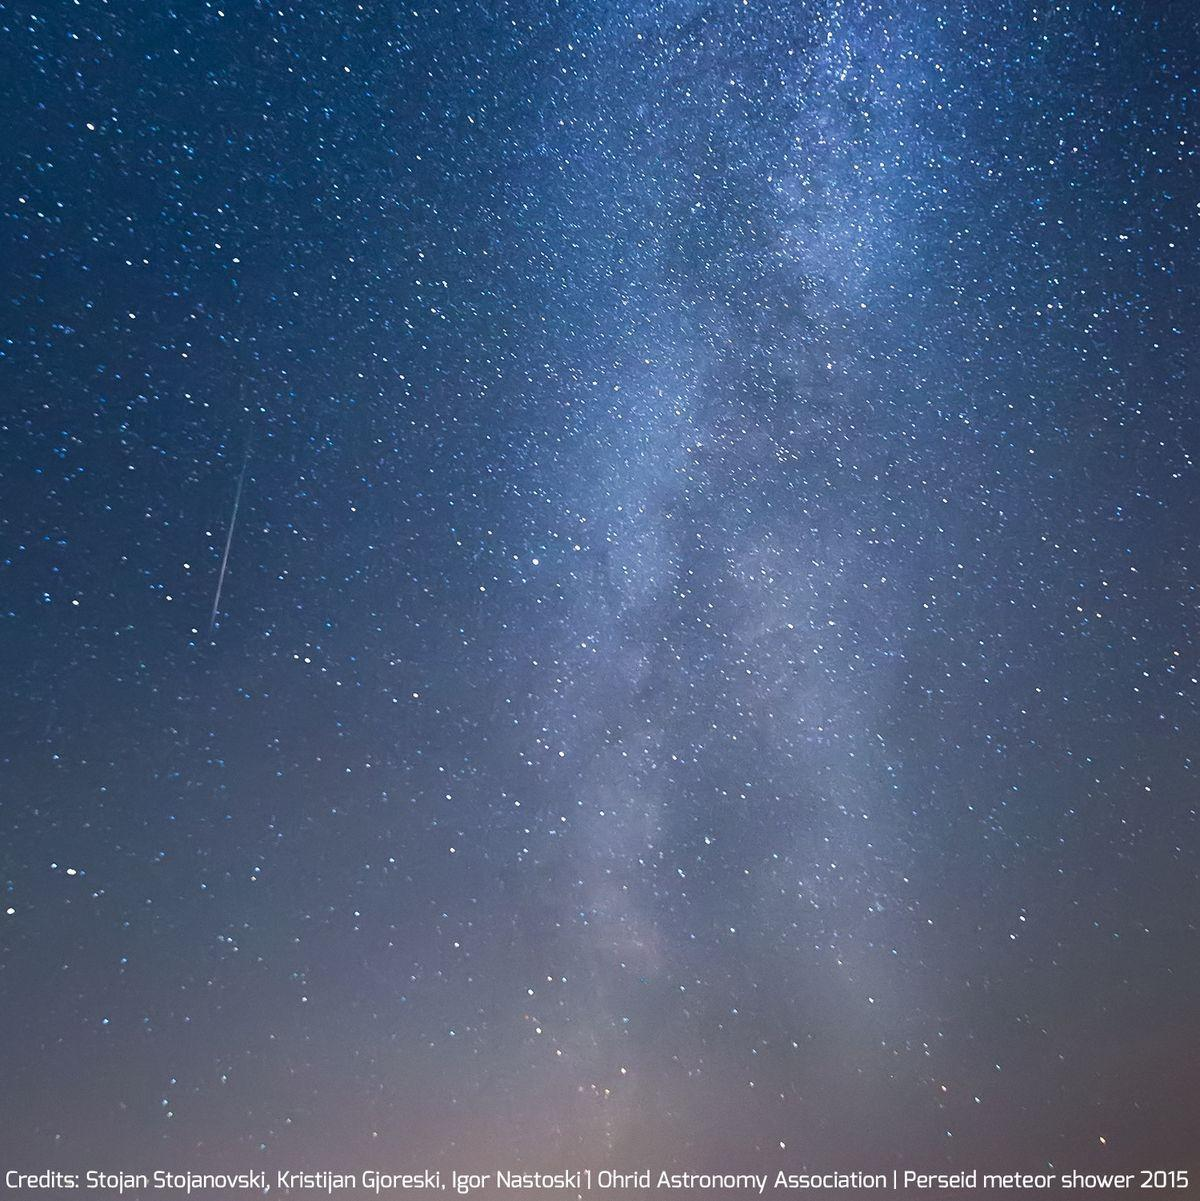meteorite: (199, 454, 264, 644)
